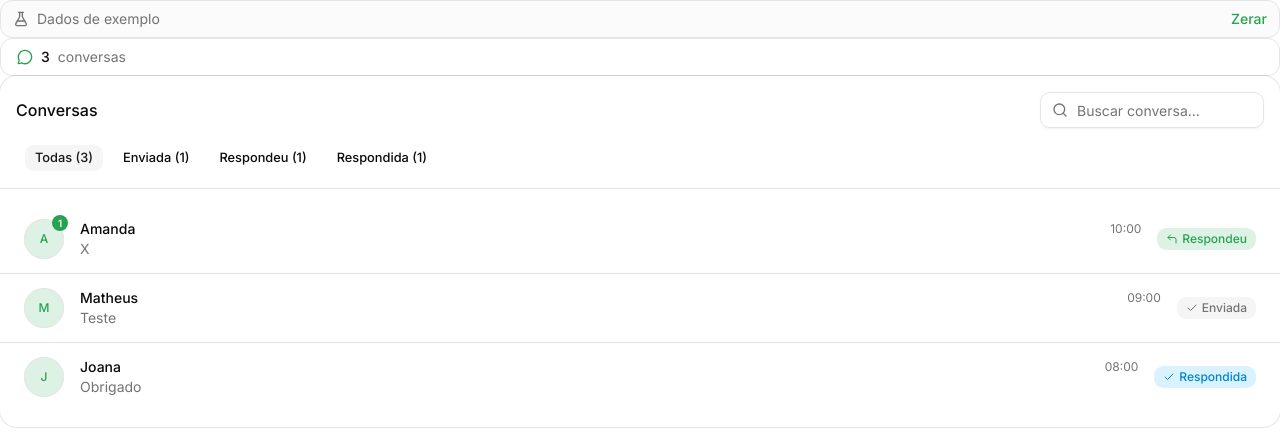
Test case: filtro por estado › filtrar deixa só quem está naquele estado
Click the button "Respondeu (1)" at (263, 158), box [208,144,318,172]
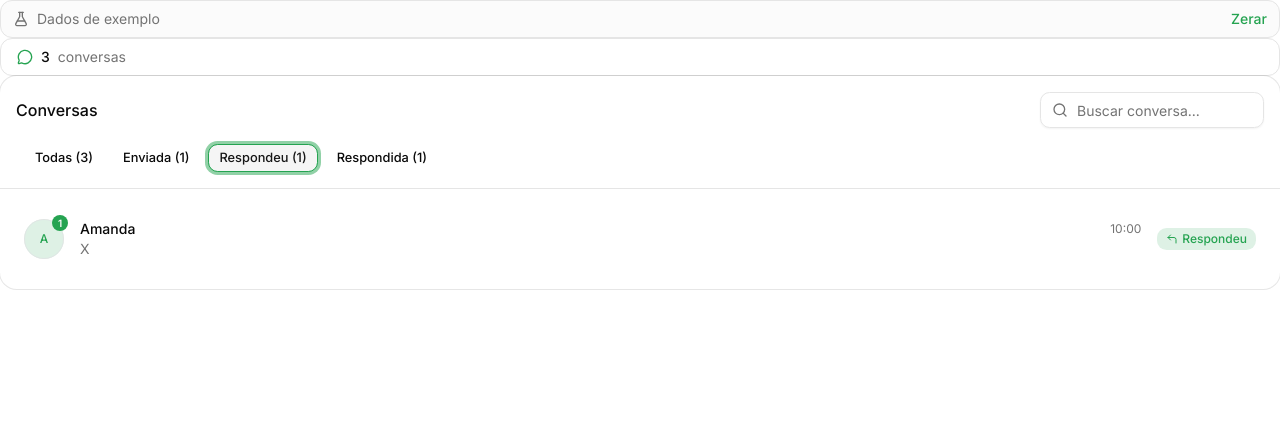
Expected: the text "Amanda" is shown, [80,219,135,239]
Expected: the link "Matheus" is gone
Expected: the link "Joana" is gone
